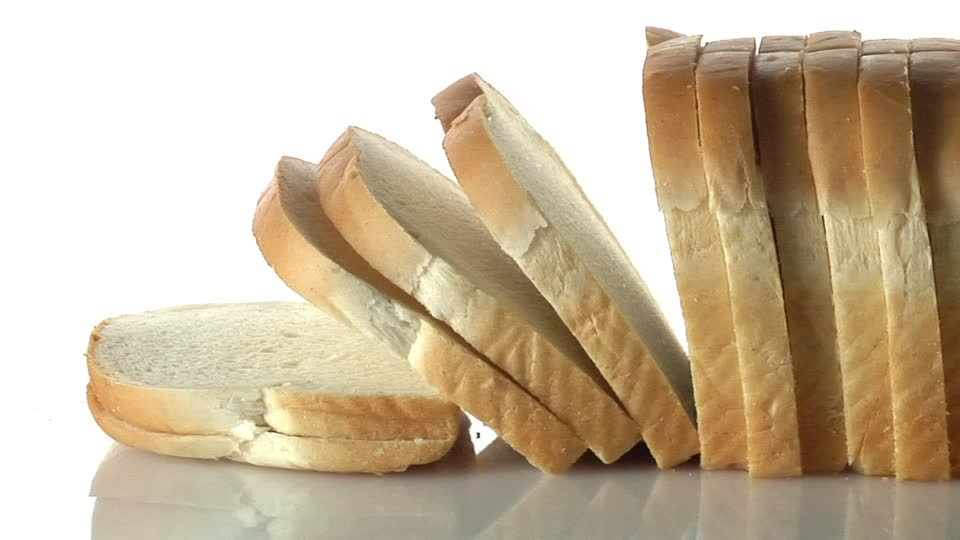slice of bread: (645, 30, 960, 478), (284, 72, 643, 463), (80, 302, 448, 460)
